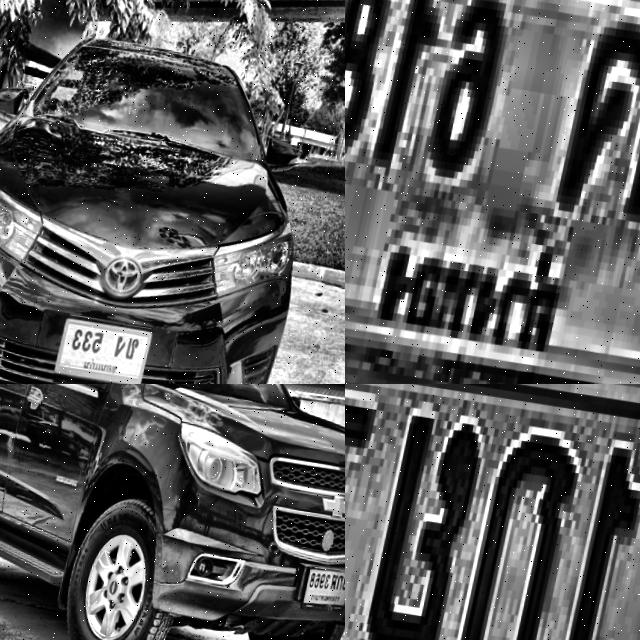license-plate: (345, 0, 640, 384), (345, 384, 640, 640), (57, 312, 163, 384), (305, 556, 345, 617)
